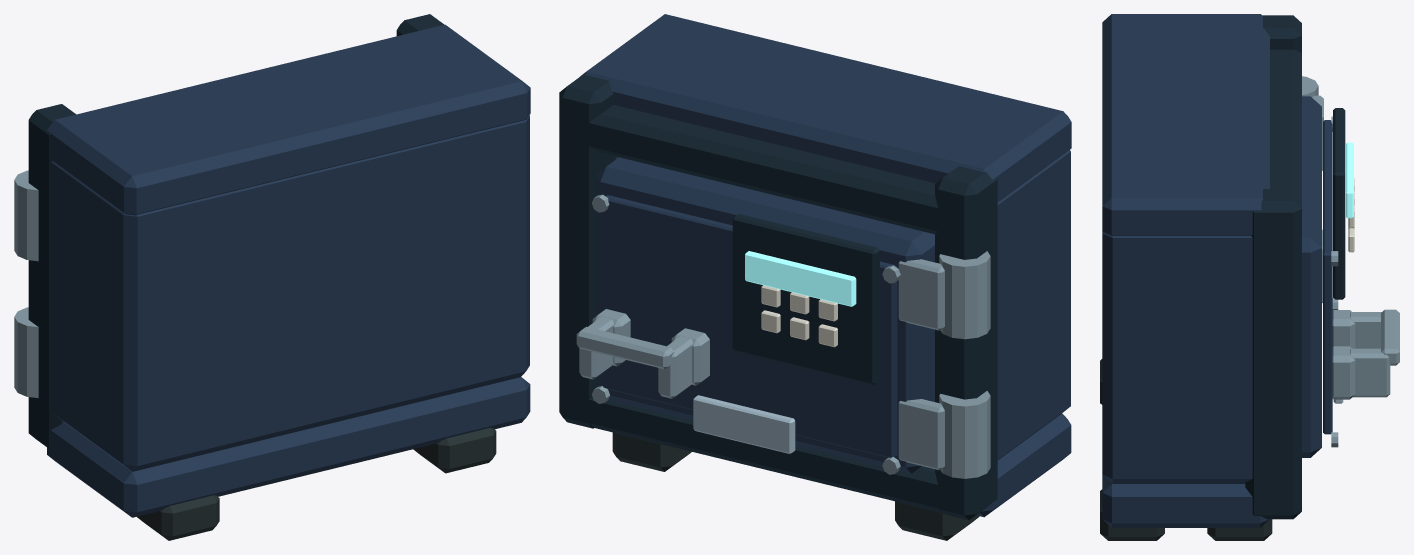
File: wall_data_safe.glb
3 renders of one model, left to right at view 1: azimuth 30°, elevation 25°; view 2: azimuth 150°, elevation 25°; view 3: azimuth 270°, elevation 25°, orthographic. The views are drawn at different scales.
Visible parts, largest first — view 1: body_back_wall, body_roof, body_left_wall, body_floor, body_right_wall, front_frame, rubber_foot (×2), hinge_pin (×2); view 2: front_frame (×4), body_roof, moving_front_inset, body_left_wall, moving_door, moving_control_panel, hinge_pin (×2), moving_hinge_leaf (×2), moving_data_badge, body_floor, rubber_foot (×2), moving_lcd (+5 smaller); view 3: body_right_wall, body_roof, front_frame (×3), moving_door, body_floor, body_back_wall, moving_front_inset, moving_control_panel, rubber_foot (×2), moving_handle_right, moving_handle_mount_r, moving_handle_left (+3 smaller).
Boxes of the visible parts, x1=… form: body_back_wall: x1=107, y1=121, x2=526, y2=470; body_roof: x1=46, y1=24, x2=530, y2=215; body_left_wall: x1=51, y1=161, x2=165, y2=471; body_floor: x1=47, y1=377, x2=530, y2=517; body_right_wall: x1=494, y1=115, x2=529, y2=382; front_frame: x1=28, y1=104, x2=75, y2=448; rubber_foot (×2): x1=137, y1=427, x2=496, y2=540; hinge_pin (×2): x1=14, y1=170, x2=38, y2=397; front_frame (×4): x1=559, y1=74, x2=997, y2=520; body_roof: x1=580, y1=14, x2=1071, y2=202; moving_front_inset: x1=602, y1=195, x2=897, y2=457; body_left_wall: x1=997, y1=150, x2=1070, y2=459; moving_door: x1=596, y1=157, x2=934, y2=473; moving_control_panel: x1=732, y1=214, x2=879, y2=384; hinge_pin (×2): x1=939, y1=251, x2=990, y2=478; moving_hinge_leaf (×2): x1=898, y1=259, x2=944, y2=470; moving_data_badge: x1=693, y1=395, x2=795, y2=453; body_floor: x1=976, y1=413, x2=1071, y2=517; rubber_foot (×2): x1=612, y1=432, x2=979, y2=540; moving_lcd: x1=745, y1=251, x2=856, y2=306; body_right_wall: x1=1102, y1=231, x2=1252, y2=483; body_roof: x1=1102, y1=14, x2=1269, y2=236; front_frame (×3): x1=1245, y1=15, x2=1301, y2=519; moving_door: x1=1302, y1=96, x2=1321, y2=457; body_floor: x1=1102, y1=475, x2=1269, y2=527; body_back_wall: x1=1102, y1=232, x2=1143, y2=483; moving_front_inset: x1=1323, y1=120, x2=1332, y2=434; moving_control_panel: x1=1333, y1=108, x2=1345, y2=299; rubber_foot (×2): x1=1100, y1=489, x2=1272, y2=540; moving_handle_right: x1=1350, y1=348, x2=1390, y2=397; moving_handle_mount_r: x1=1332, y1=346, x2=1355, y2=399; moving_handle_left: x1=1350, y1=312, x2=1381, y2=348.
Size of the model in its own units: 0.8665 by 0.734 by 0.5547.
